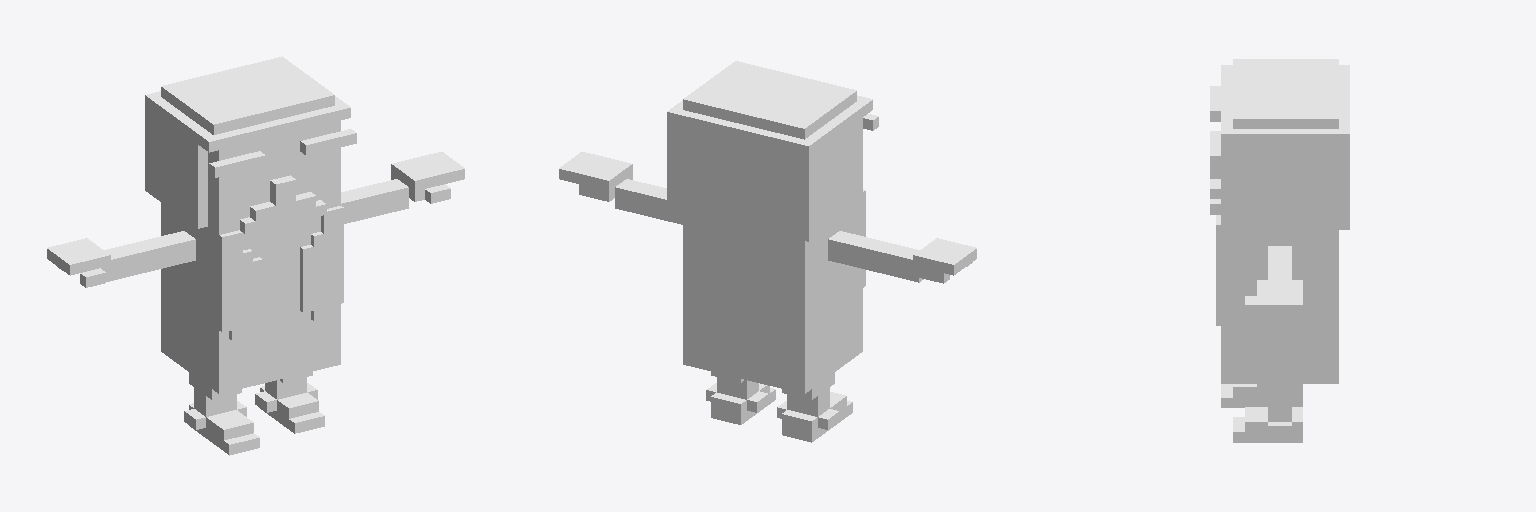
Rendered from karczmarz.obj.
The picture shows the model from 3 angles: view 1: azimuth 30°, elevation 25°; view 2: azimuth 150°, elevation 25°; view 3: azimuth 270°, elevation 25°; orthographic projection.
Visible parts, largest first — view 1: object 1; view 2: object 1; view 3: object 1.
Boxes of the visible parts, box(x1,y1,x2,y2) form: object 1: box(47, 56, 464, 455); object 1: box(559, 61, 976, 442); object 1: box(1210, 59, 1349, 442).
Size of the model in its own units: 7.8 by 6.2 by 2.4.